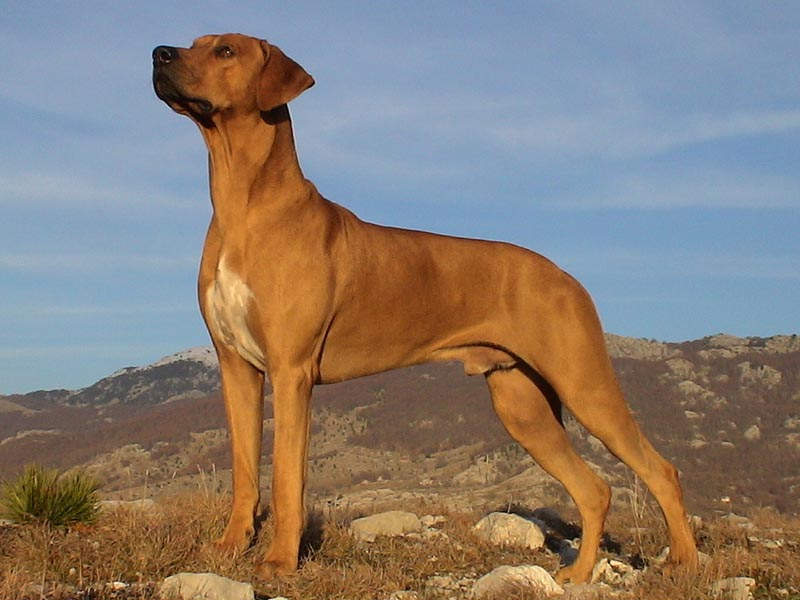cane da caccia: (143, 26, 702, 580)
